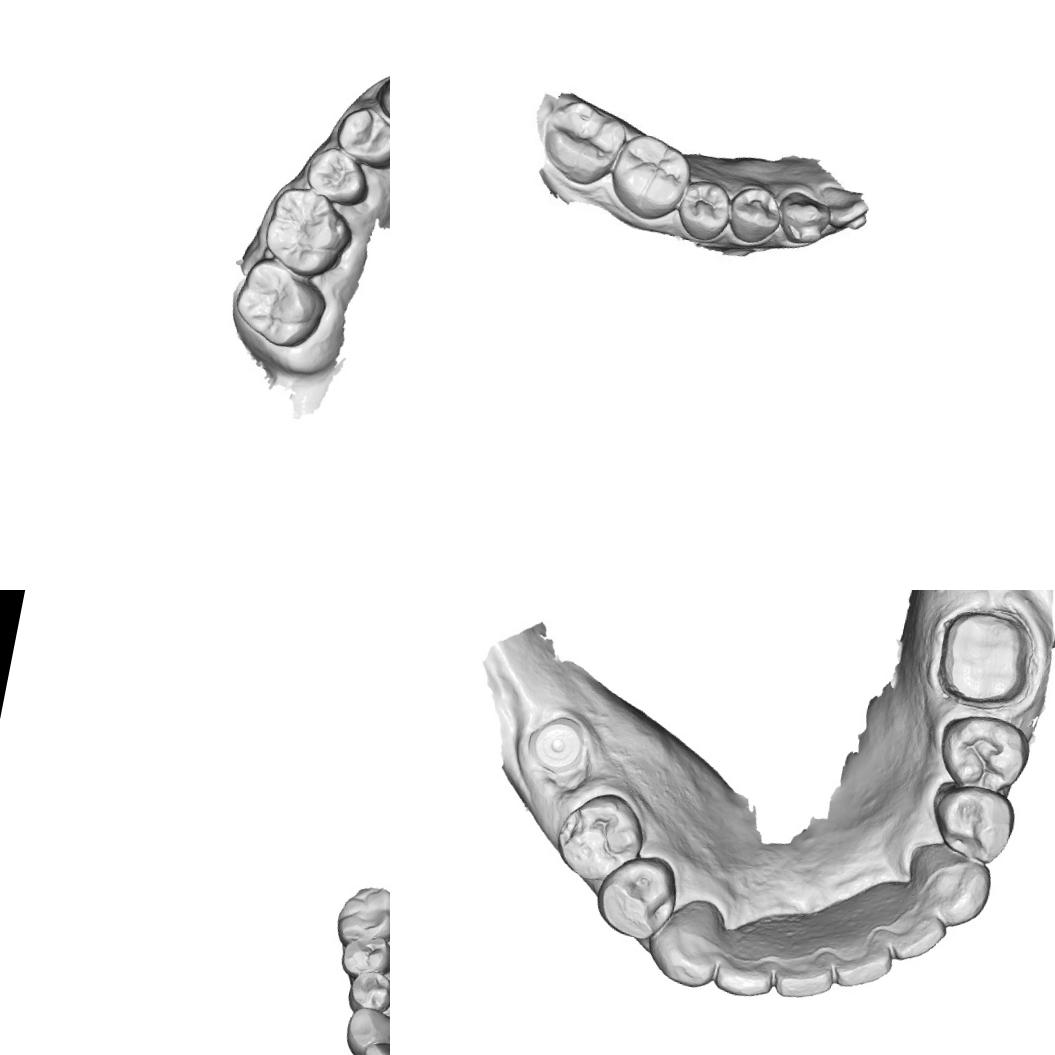canine: (895, 838, 998, 934), (644, 890, 736, 992), (772, 182, 833, 250), (336, 1003, 390, 1055), (373, 59, 390, 133)
crown: (927, 600, 1042, 714)
implant: (514, 707, 596, 778)
incisor: (879, 897, 955, 973), (764, 936, 845, 1006), (824, 924, 900, 995), (713, 922, 782, 1000), (820, 182, 872, 231), (357, 1038, 390, 1055)
molar: (255, 181, 361, 284), (228, 254, 333, 354), (538, 95, 629, 191), (608, 132, 696, 225), (329, 876, 390, 953)
premolar: (547, 784, 650, 890), (930, 706, 1032, 801), (589, 846, 683, 945), (923, 778, 1020, 868), (300, 143, 375, 211), (673, 174, 735, 246), (329, 101, 390, 171), (727, 184, 782, 248), (334, 928, 390, 986), (340, 965, 390, 1016)
